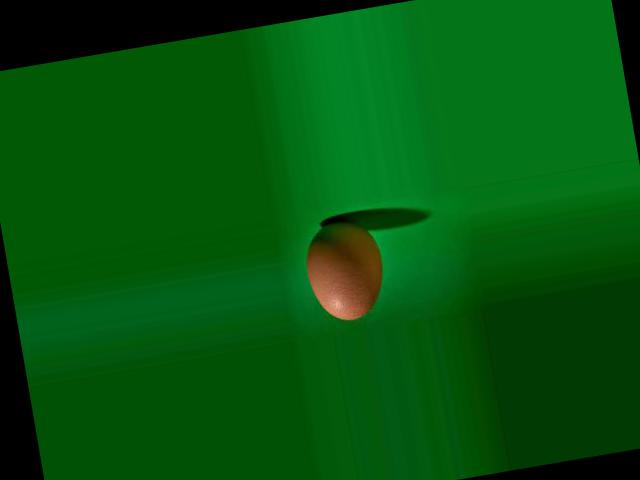egg: (299, 214, 390, 324)
